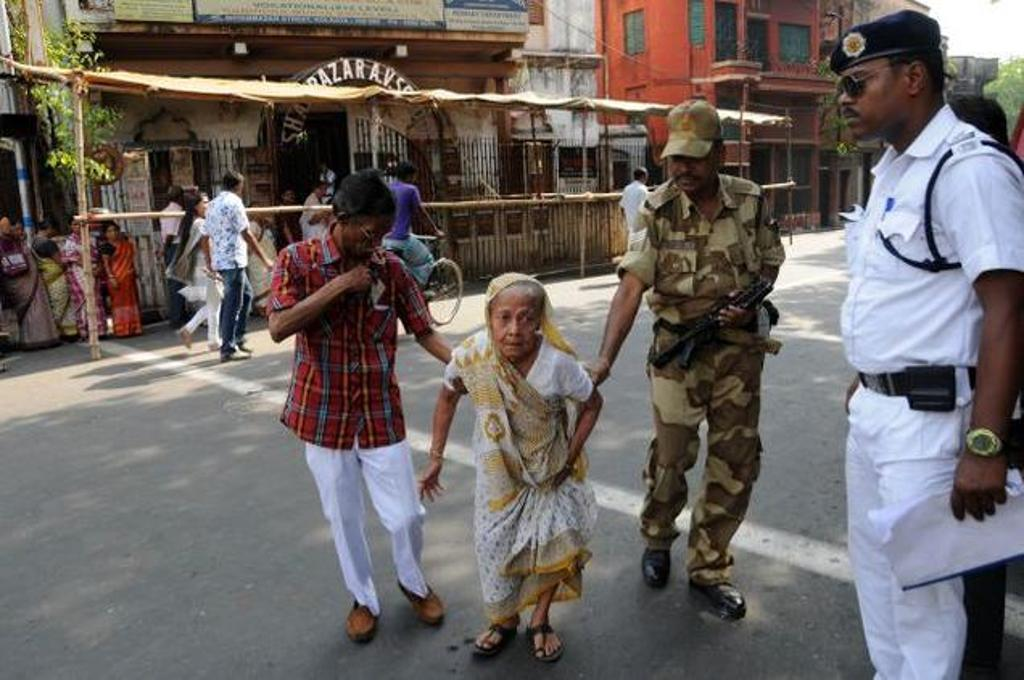face: (840, 65, 902, 139), (490, 286, 541, 358), (343, 208, 394, 257), (671, 149, 713, 190), (197, 197, 210, 216), (107, 226, 119, 239), (234, 177, 244, 192), (72, 219, 83, 230), (283, 191, 294, 202), (317, 185, 326, 197), (3, 219, 11, 231)
